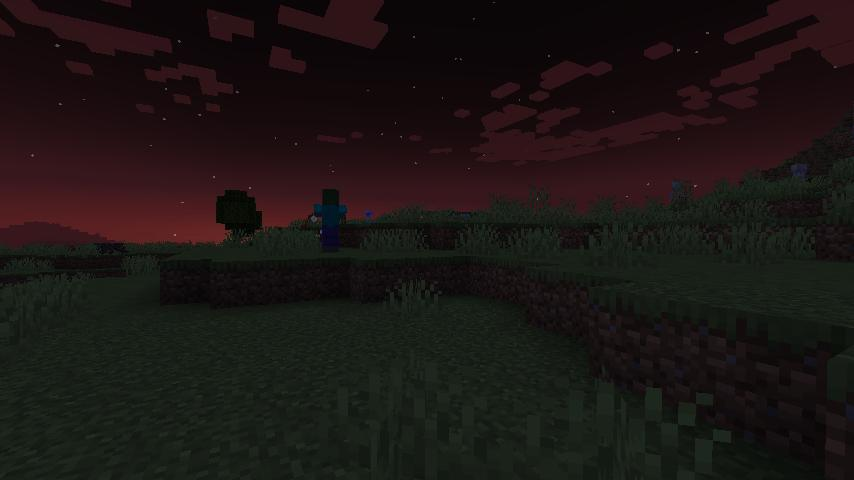skeleton: (788, 160, 815, 194), (667, 180, 687, 208)
spider: (91, 241, 131, 255)
zombie: (312, 182, 348, 256)
